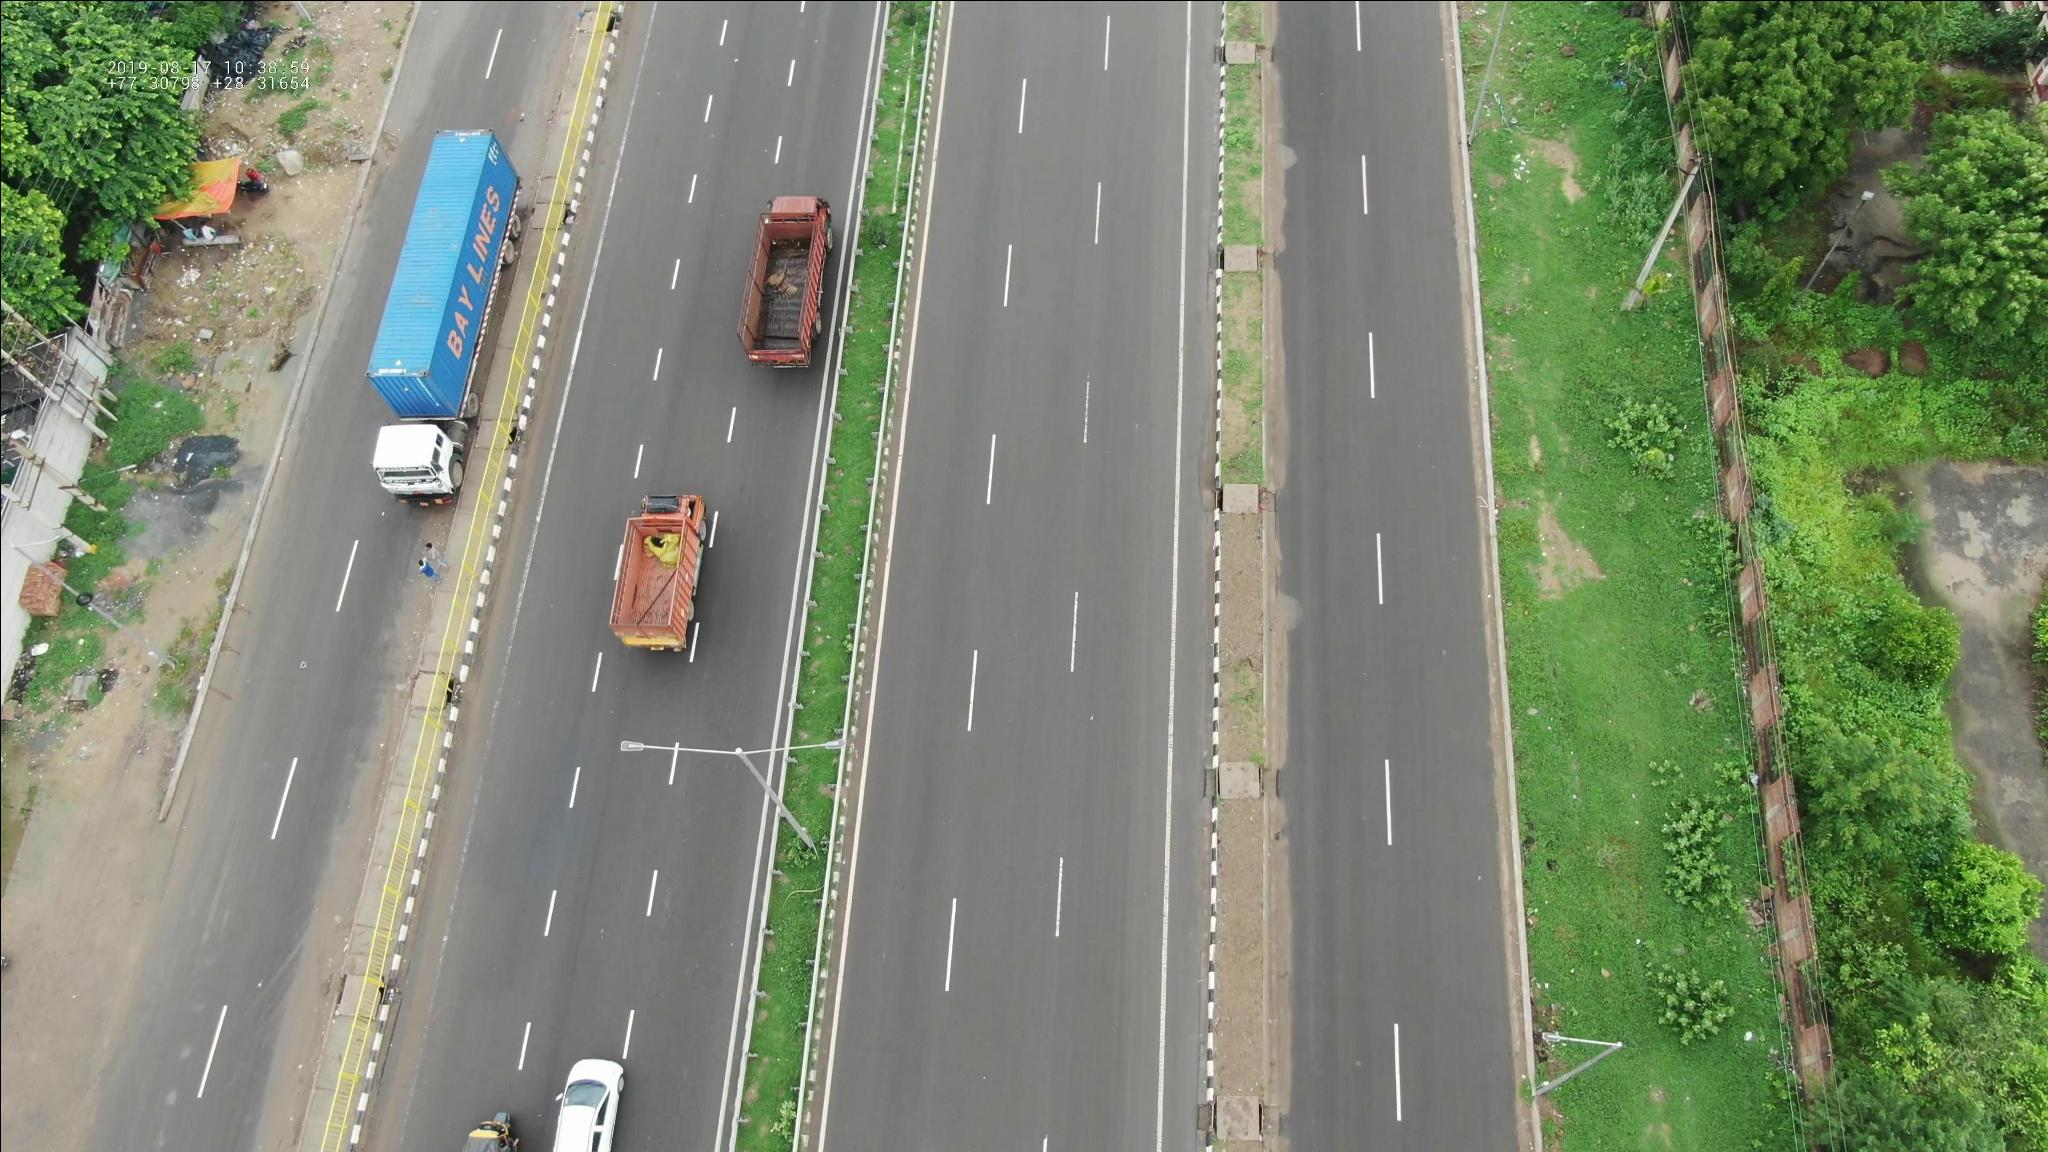Potholes: (148, 971, 210, 1132)
